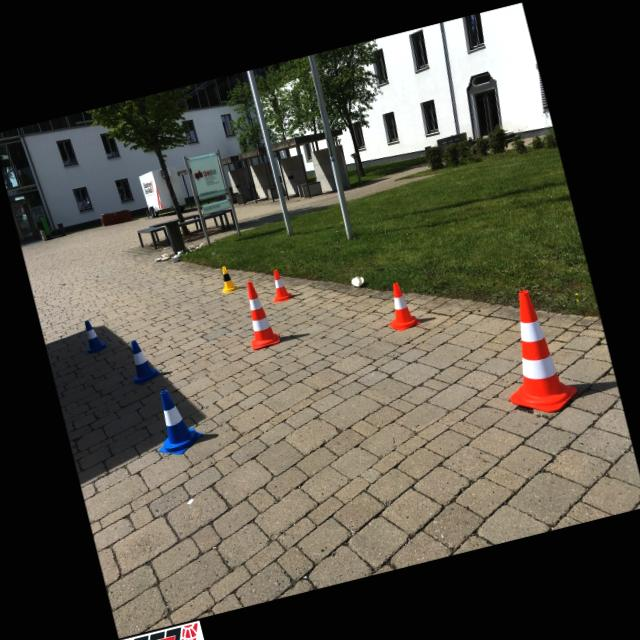blue_cone: (144, 384, 206, 458), (121, 335, 162, 386), (76, 316, 110, 354)
large_orange_cone: (485, 283, 581, 421), (237, 277, 280, 350)
orange_cone: (378, 278, 422, 332), (266, 266, 294, 302)
yellow_cone: (216, 264, 238, 294)
